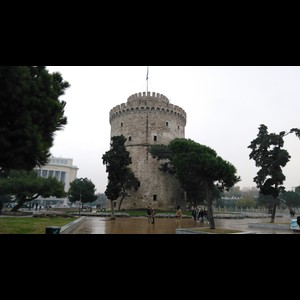White Tower: (103, 67, 191, 213)
